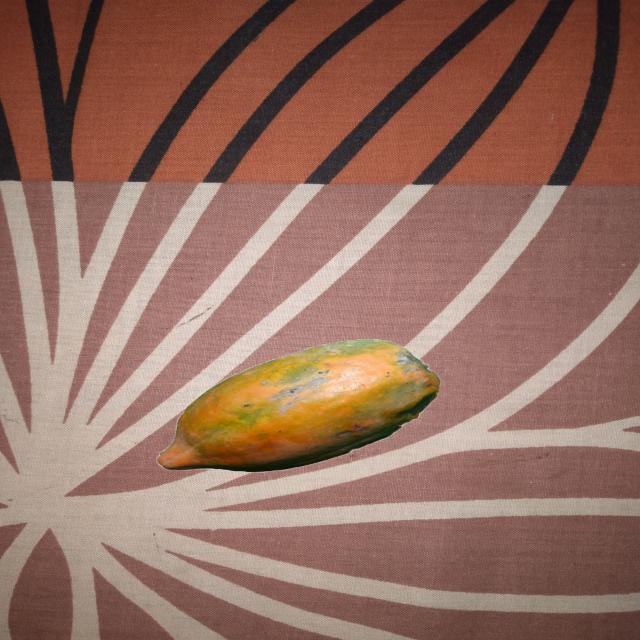Pepaya rippen: (150, 336, 436, 478)
